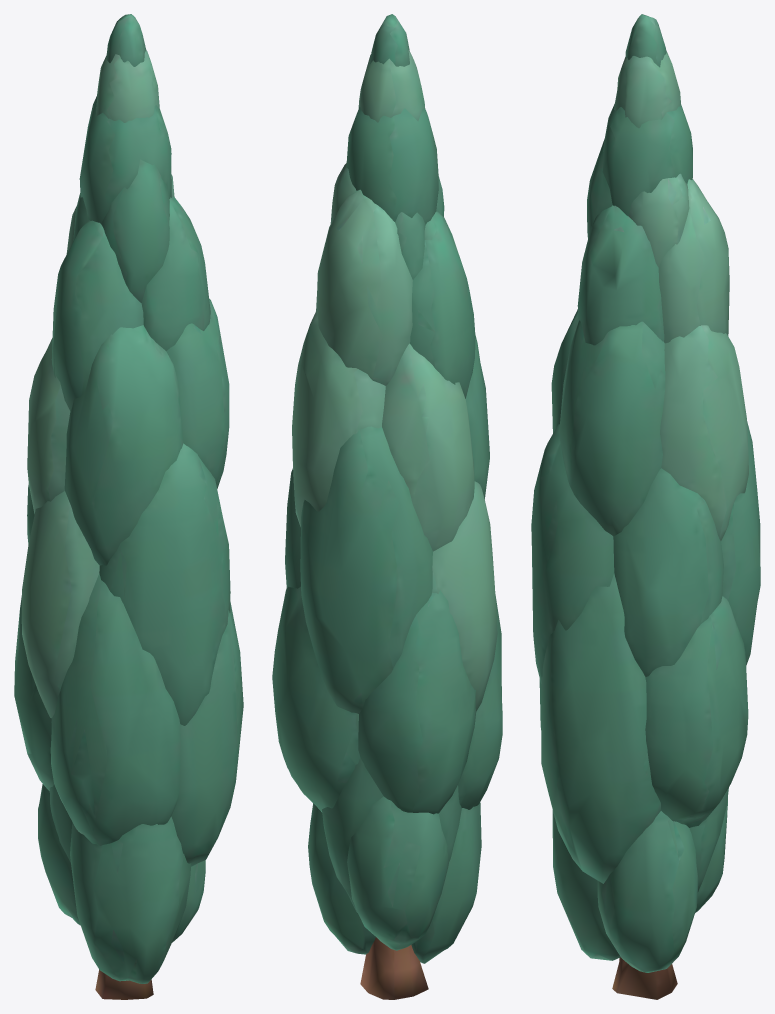
File: cypress-tree.glb
The picture shows the model from 3 angles, left to right: view 1: azimuth 30°, elevation 25°; view 2: azimuth 150°, elevation 25°; view 3: azimuth 270°, elevation 25°; orthographic projection.
Visible parts, largest first — view 1: cypress-tree_body; view 2: cypress-tree_body; view 3: cypress-tree_body.
Boxes of the visible parts, x1,y1,x2,y2 form: cypress-tree_body: (14, 14, 243, 999); cypress-tree_body: (272, 14, 502, 999); cypress-tree_body: (531, 14, 760, 999).
Size of the model in its own units: 1.41 by 6.92 by 1.48.
Materials: 1 (1 with a texture image).
